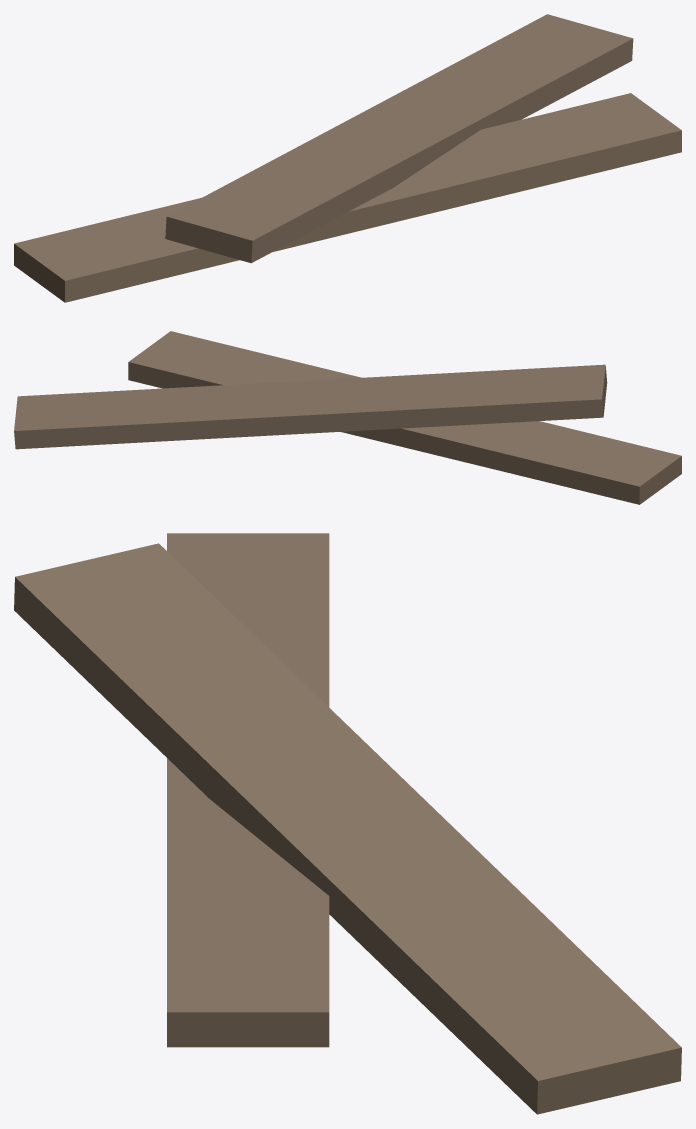
The model's file is SD_Prop_Panks_01.fbx.
3 views of the same model, one above another, from view 1: azimuth 30°, elevation 25°; view 2: azimuth 150°, elevation 25°; view 3: azimuth 270°, elevation 25° (orthographic). The views are drawn at different scales.
Visible parts, largest first — view 1: SD_Prop_Panks_01; view 2: SD_Prop_Panks_01; view 3: SD_Prop_Panks_01.
Boxes of the visible parts, left/top/right/bottom form: SD_Prop_Panks_01: left=14, top=14, right=681, bottom=302; SD_Prop_Panks_01: left=14, top=331, right=681, bottom=504; SD_Prop_Panks_01: left=14, top=533, right=681, bottom=1114.
Bounding box in the file's own units: 4.58 × 0.4724 × 2.43.
